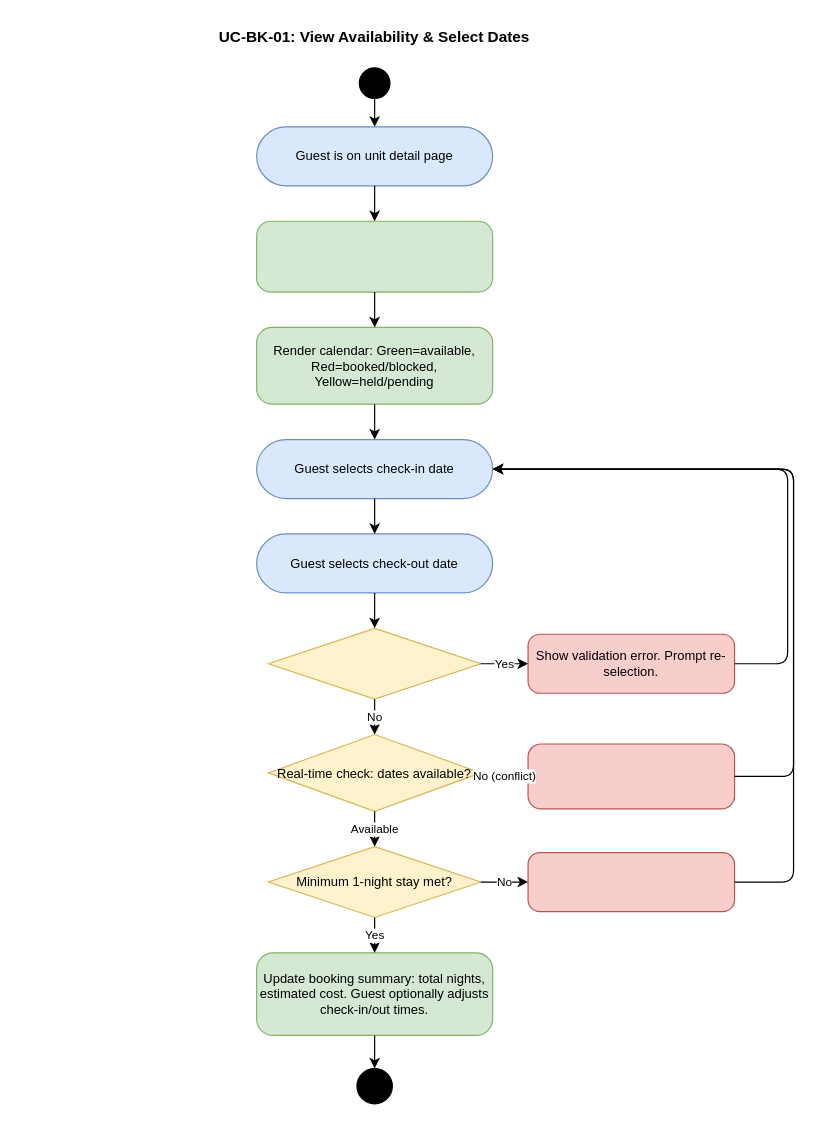
This 824x1125 diagram has some shape labels left out. The centre of each missing label's shape, as x and y in pixels:
Check-out before check-in?: [374,663]
Display: Selected dates not available. Highlight conflict.: [631,776]
Show minimum stay requirement message: [631,881]
System queries bookings, blocked_dates, and temporary holds for the unit: [374,256]
